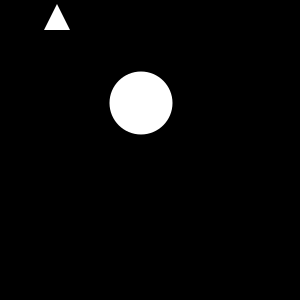rectangle: (110, 72, 172, 134)
triangle: (44, 4, 70, 30)
